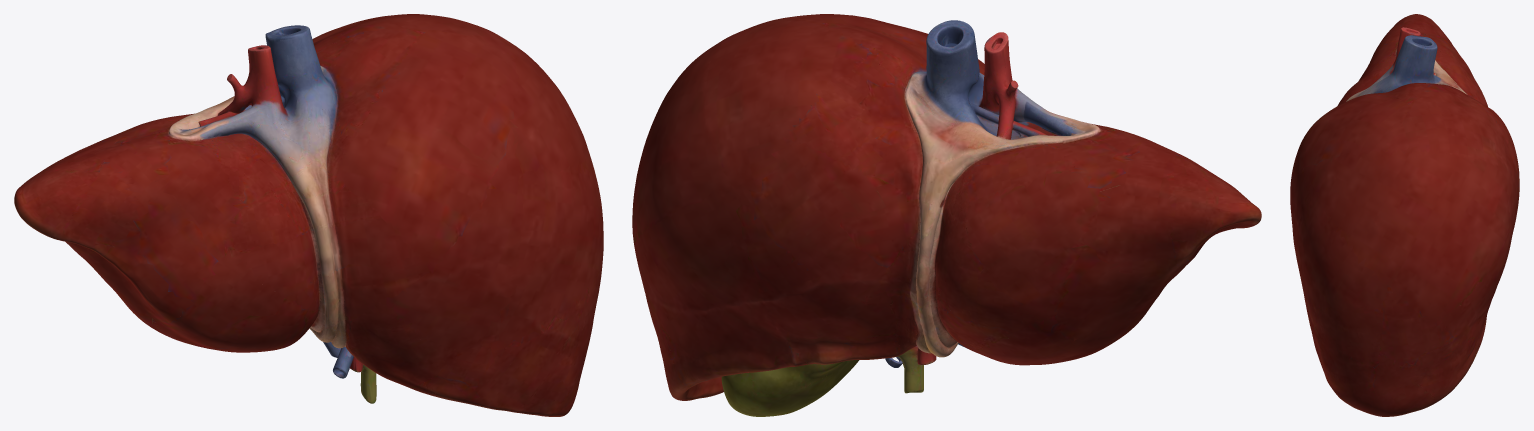
The model's file is liver-grab3d.glb.
3 views of the same model, side by side, from view 1: azimuth 30°, elevation 25°; view 2: azimuth 150°, elevation 25°; view 3: azimuth 270°, elevation 25° (orthographic). The views are drawn at different scales.
Parts seen in each view (by area): view 1: human-liver; view 2: human-liver; view 3: human-liver.
Boxes of the visible parts, bbox=[...] form: human-liver: bbox=[14, 14, 603, 416]; human-liver: bbox=[632, 14, 1261, 416]; human-liver: bbox=[1290, 14, 1519, 416].
Size of the model in its own units: 0.25 by 0.1762 by 0.1241.
1 material, 1 textured.
